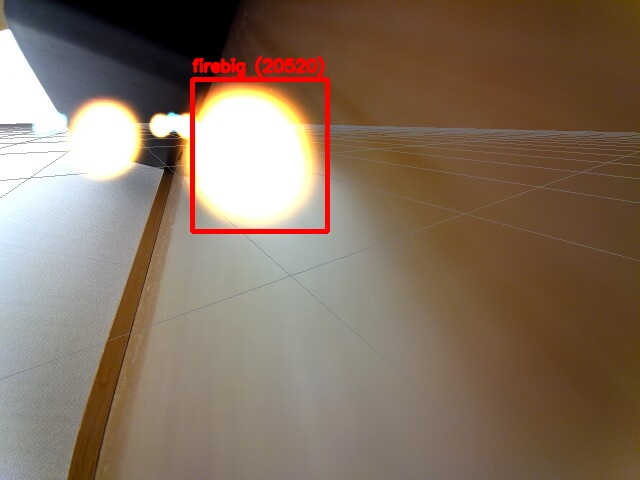firebig: (192, 79, 327, 231)
